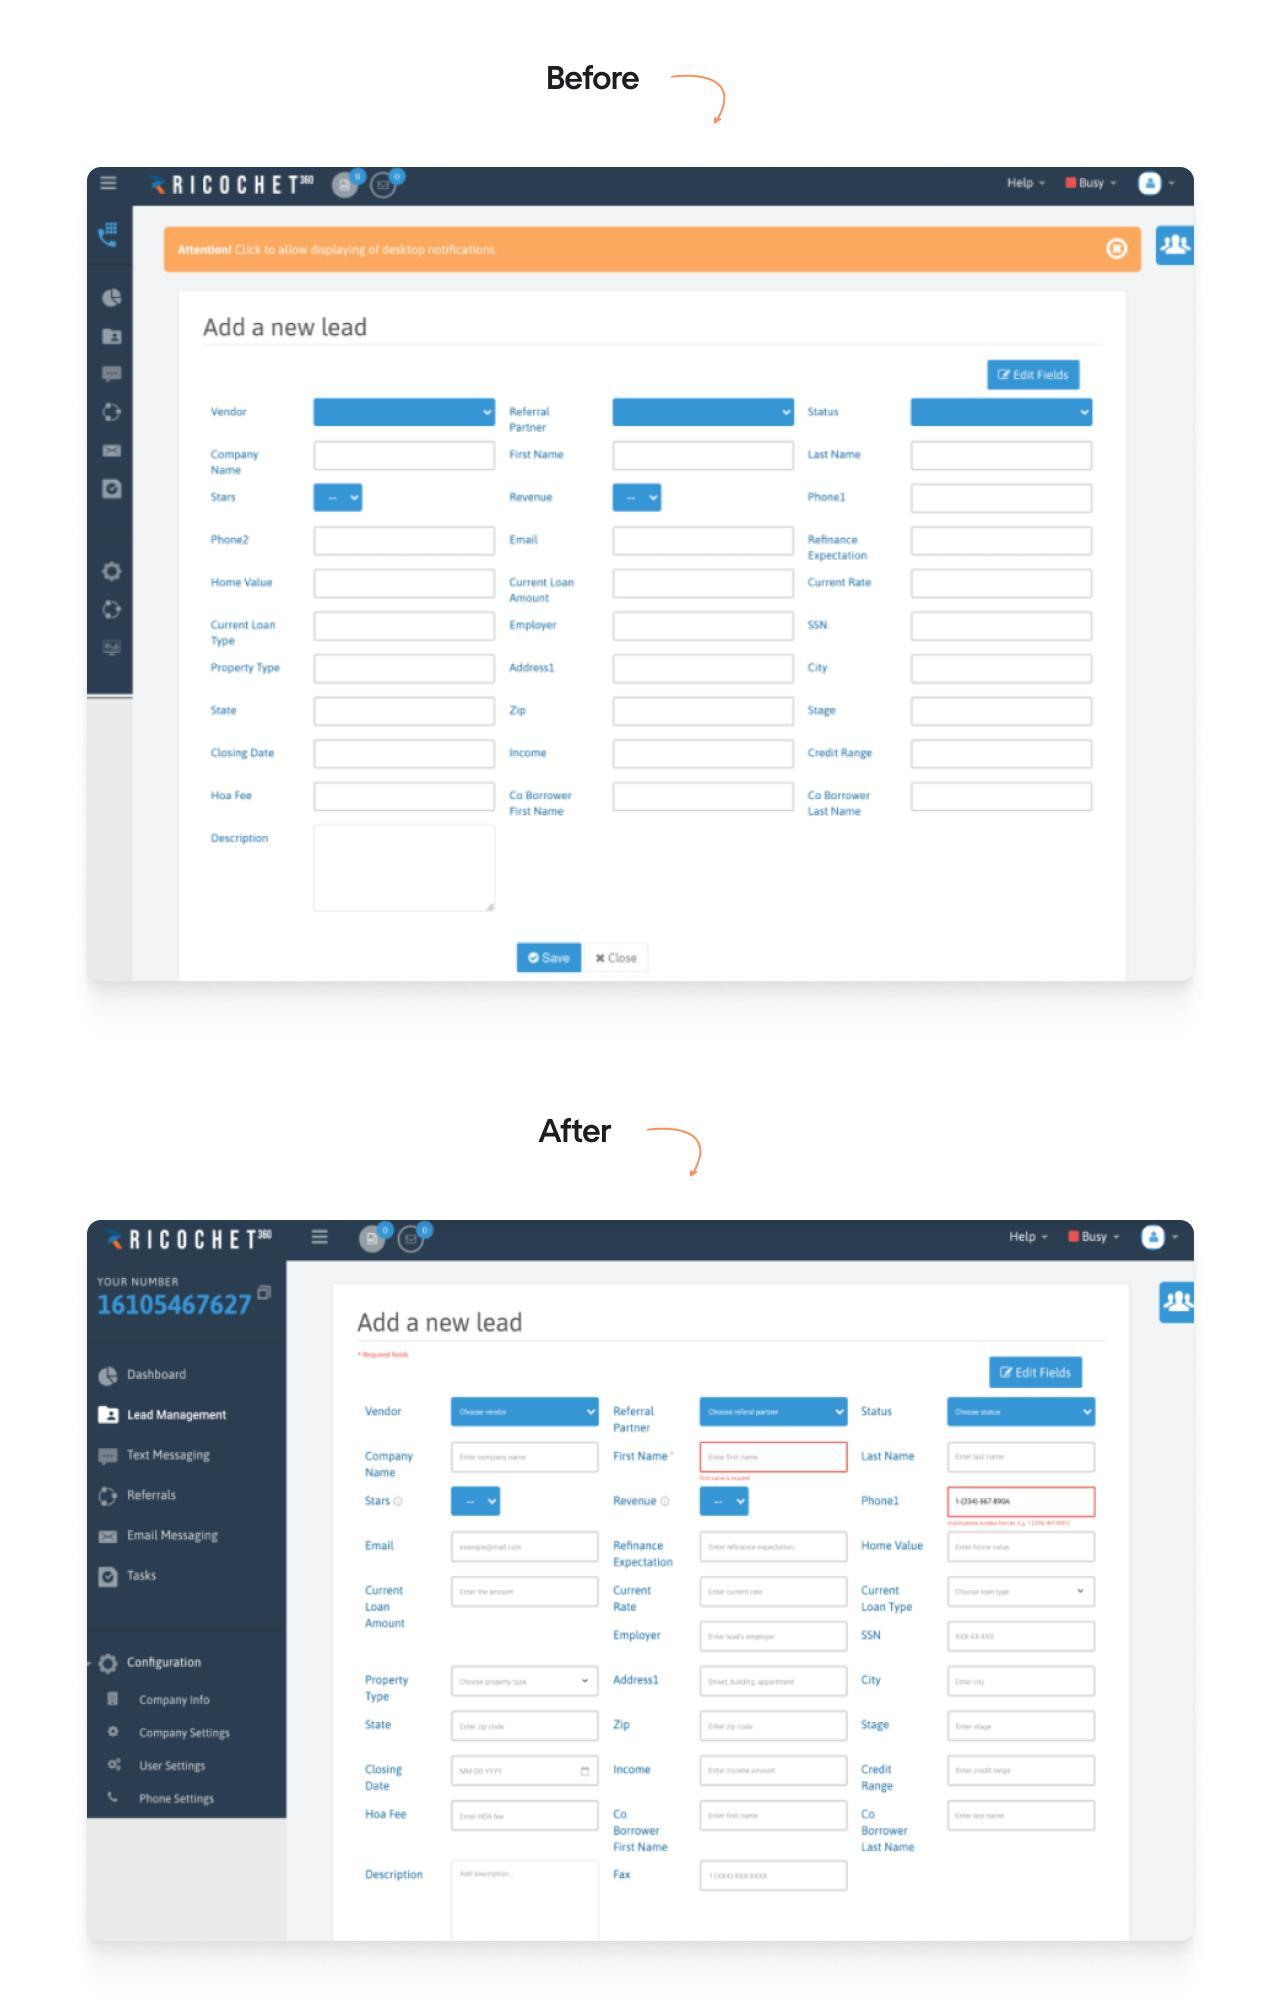button: (988, 1355, 1085, 1390), (986, 360, 1082, 390), (517, 942, 581, 975), (583, 942, 649, 973)
dropdown: (910, 396, 1095, 429), (614, 398, 796, 429), (945, 1575, 1098, 1610), (945, 1395, 1099, 1428), (313, 399, 496, 427), (451, 1665, 600, 1698), (452, 1396, 602, 1428), (700, 1397, 851, 1428), (699, 1486, 752, 1518), (452, 1486, 503, 1516), (313, 484, 366, 514), (614, 484, 663, 514), (1141, 1226, 1183, 1252), (1069, 1229, 1123, 1248), (1139, 173, 1179, 197), (1064, 176, 1119, 191), (1010, 1229, 1052, 1246), (1006, 178, 1048, 192)
icon: (1163, 1289, 1193, 1320), (98, 222, 120, 251), (95, 1405, 120, 1427), (101, 288, 123, 313), (98, 1566, 120, 1590), (101, 366, 125, 388), (103, 597, 123, 621), (310, 1229, 330, 1251), (98, 1654, 119, 1676), (98, 1449, 120, 1469), (101, 561, 123, 581), (101, 479, 123, 499), (101, 639, 125, 658), (98, 1487, 119, 1508), (103, 327, 123, 348), (100, 1367, 119, 1389), (101, 442, 123, 461), (103, 404, 123, 423), (98, 176, 120, 194), (255, 1286, 274, 1302), (106, 1690, 120, 1710), (98, 1530, 117, 1544), (109, 1759, 125, 1773), (107, 1791, 120, 1806), (107, 1726, 120, 1739)
input: (909, 781, 1095, 815), (910, 696, 1095, 730), (912, 483, 1095, 517), (912, 568, 1094, 602), (313, 611, 498, 643), (313, 738, 498, 771), (313, 781, 498, 813), (910, 611, 1095, 643), (910, 738, 1095, 771), (314, 440, 498, 473), (912, 440, 1095, 473), (614, 738, 796, 771), (614, 440, 796, 473), (313, 568, 498, 599), (313, 655, 498, 686), (313, 696, 498, 727), (910, 526, 1095, 556), (314, 526, 498, 556), (614, 782, 796, 813), (614, 696, 796, 727), (614, 655, 796, 686), (614, 611, 796, 641), (614, 570, 796, 600), (614, 526, 796, 556), (912, 655, 1094, 686), (947, 1798, 1097, 1833), (700, 1858, 848, 1894), (699, 1442, 850, 1475), (947, 1665, 1098, 1698), (945, 1754, 1097, 1788), (451, 1800, 600, 1833), (451, 1577, 600, 1610), (700, 1800, 850, 1833), (699, 1665, 848, 1698), (700, 1621, 850, 1654), (947, 1442, 1097, 1475), (947, 1486, 1097, 1519), (947, 1621, 1097, 1654), (947, 1709, 1097, 1742), (700, 1575, 848, 1609), (699, 1531, 850, 1563), (451, 1710, 600, 1742), (451, 1531, 600, 1563), (947, 1533, 1098, 1563), (451, 1756, 600, 1786), (451, 1442, 600, 1472), (700, 1756, 850, 1786), (700, 1712, 848, 1742)
label: (178, 244, 498, 258), (206, 314, 368, 341), (92, 1296, 252, 1321), (357, 1312, 526, 1334), (614, 1810, 671, 1855), (862, 1811, 919, 1855), (508, 788, 575, 819), (509, 577, 578, 605), (366, 1585, 408, 1629), (211, 619, 277, 647), (807, 790, 872, 818), (614, 1541, 677, 1568), (126, 1408, 229, 1424), (807, 534, 869, 561), (860, 1585, 914, 1615), (125, 1530, 223, 1546), (137, 1726, 233, 1742), (614, 1403, 659, 1436), (364, 1450, 415, 1478), (128, 1654, 208, 1672), (95, 1274, 182, 1290), (366, 1676, 412, 1704), (363, 1764, 408, 1792), (612, 1585, 655, 1615), (126, 1449, 211, 1464), (509, 407, 553, 435), (211, 451, 260, 476), (138, 1794, 216, 1808), (857, 1764, 897, 1792), (859, 1447, 920, 1465), (139, 1695, 213, 1709), (137, 1762, 208, 1775), (210, 575, 274, 590), (211, 664, 280, 677), (809, 747, 873, 760), (509, 448, 567, 462), (807, 448, 863, 462), (364, 1869, 426, 1882), (211, 832, 272, 846), (211, 749, 277, 760), (807, 577, 873, 589), (614, 1450, 672, 1464), (509, 618, 561, 633), (612, 1628, 663, 1643), (862, 1540, 925, 1552), (363, 1403, 408, 1419), (126, 1370, 188, 1381), (363, 1494, 407, 1510), (509, 490, 556, 505), (364, 1808, 411, 1823), (612, 1497, 669, 1509), (210, 790, 255, 804), (804, 490, 847, 505), (614, 1673, 661, 1687), (128, 1490, 179, 1502), (509, 664, 558, 675), (210, 534, 252, 548), (612, 1763, 653, 1776), (860, 1405, 895, 1419), (208, 407, 250, 418), (509, 749, 550, 760), (128, 1571, 160, 1585), (508, 534, 542, 548), (806, 705, 838, 718), (366, 1538, 396, 1552), (611, 1717, 633, 1734), (807, 408, 840, 418), (859, 1673, 884, 1687), (210, 708, 241, 718), (363, 1720, 393, 1731), (211, 492, 236, 503), (509, 703, 527, 719), (860, 1631, 884, 1643), (807, 619, 828, 631), (807, 664, 831, 674), (614, 1869, 633, 1880)
